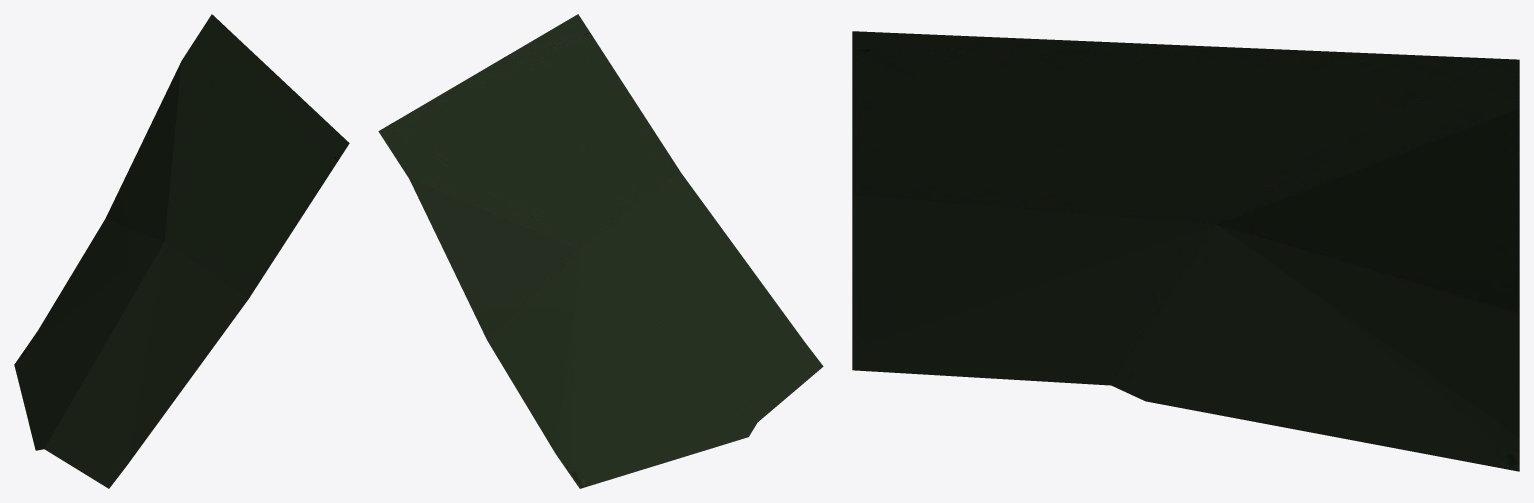
3 views of the same model, side by side, from view 1: azimuth 30°, elevation 25°; view 2: azimuth 150°, elevation 25°; view 3: azimuth 270°, elevation 25° (orthographic). The views are drawn at different scales.
Size of the model in its own units: 2.75 by 2.95 by 2.95.
Materials: 4 (4 with a texture image).
